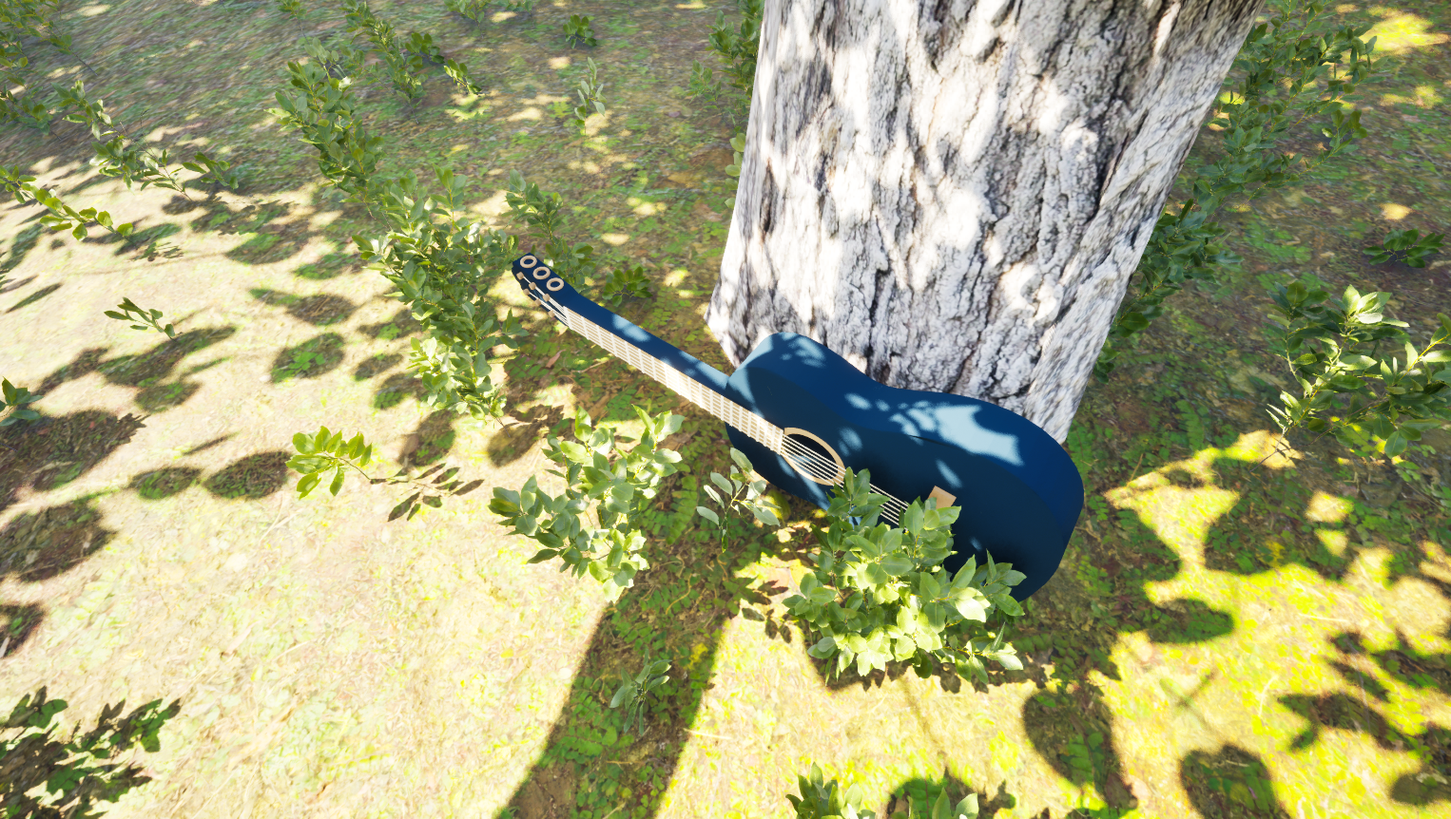Guitar: (466, 166, 1135, 636)
